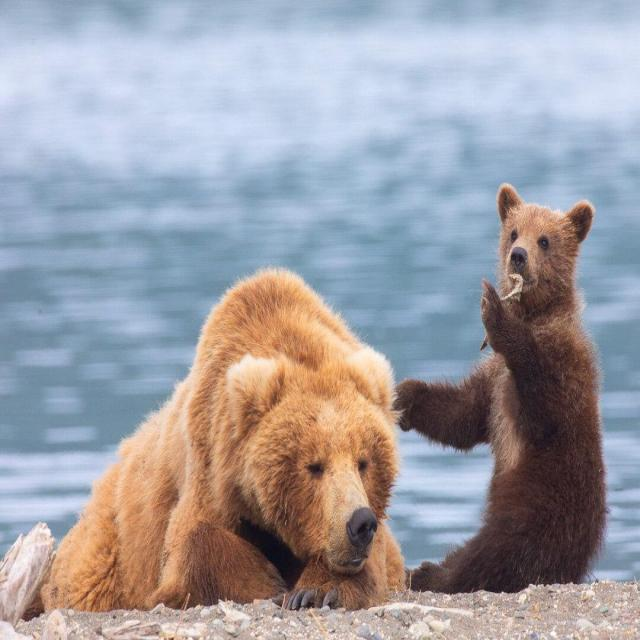Bear: (0, 269, 409, 624), (395, 185, 609, 596)
